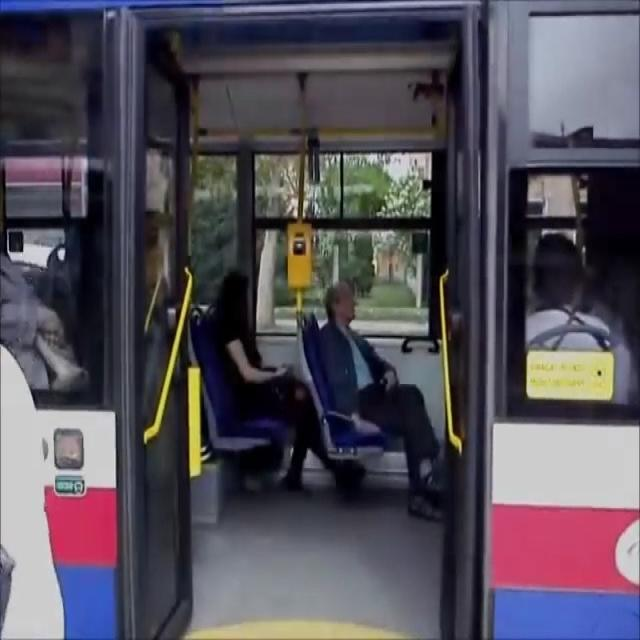bus-door: (104, 4, 486, 640)
